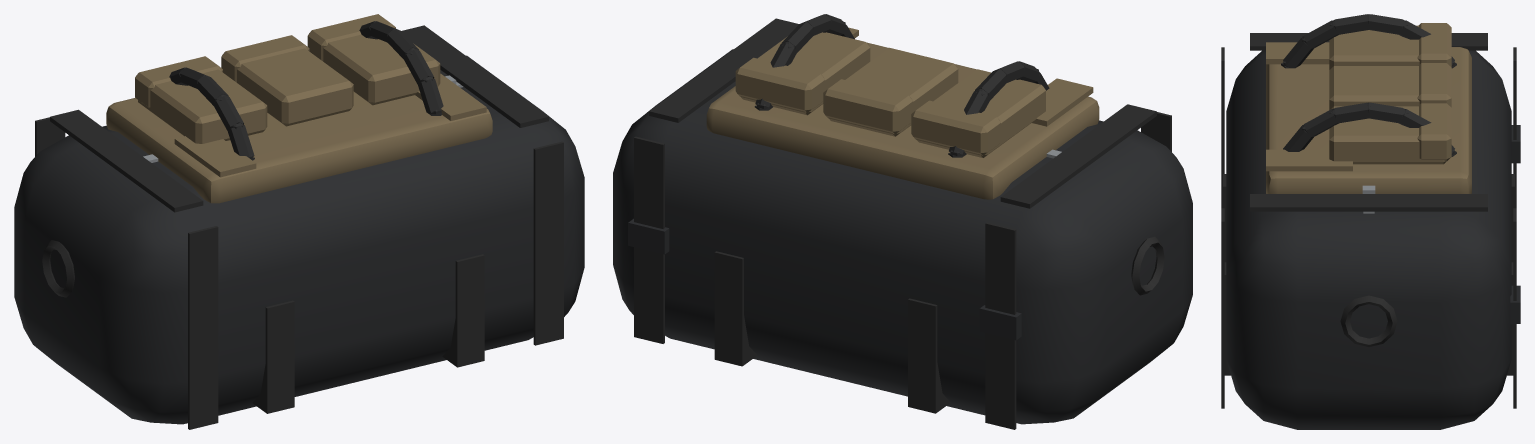
Rendered from prop_deploy_armor_bag.glb.
3 views of the same model, side by side, from view 1: azimuth 30°, elevation 25°; view 2: azimuth 150°, elevation 25°; view 3: azimuth 270°, elevation 25° (orthographic). The views are drawn at different scales.
Parts seen in each view (by area): view 1: Bag; view 2: Bag; view 3: Bag.
Boxes of the visible parts, bbox=[...] form: Bag: bbox=[14, 14, 584, 429]; Bag: bbox=[613, 14, 1192, 429]; Bag: bbox=[1221, 14, 1520, 429].
Bounding box in the file's own units: 0.68 × 0.3962 × 0.377.
